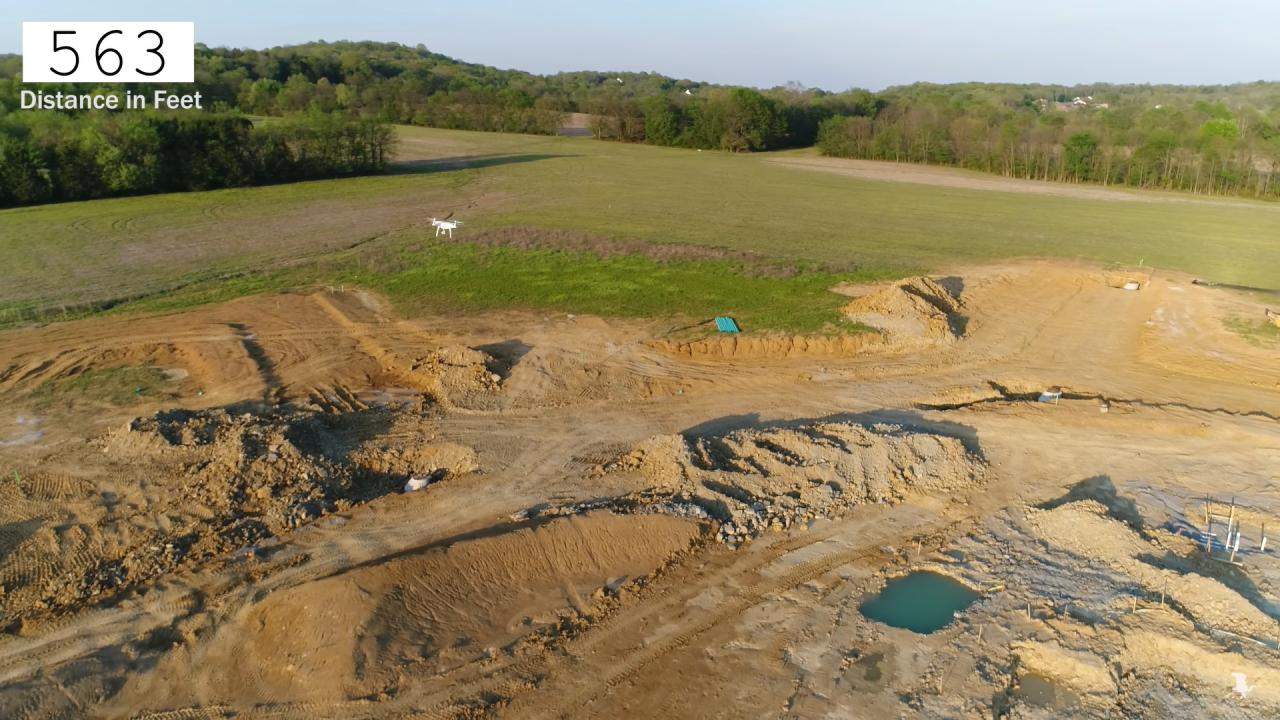Drone: (419, 208, 470, 247)
